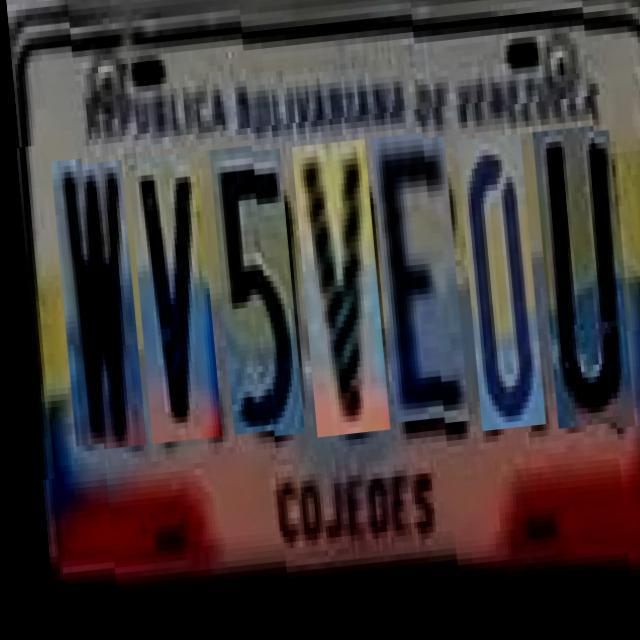0: (452, 133, 536, 430)
5: (206, 148, 296, 440)
E: (367, 134, 460, 425)
U: (528, 126, 625, 429)
V: (288, 141, 381, 438), (124, 156, 214, 447)
W: (48, 162, 138, 453)
